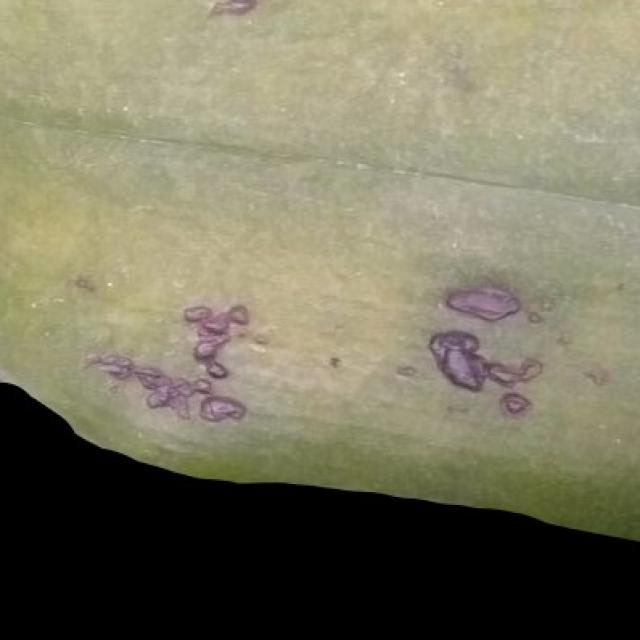mite: (426, 326, 489, 391), (196, 0, 270, 26), (63, 265, 103, 301), (317, 344, 352, 378), (206, 0, 259, 18), (498, 389, 529, 416), (521, 304, 547, 328), (323, 349, 346, 373), (71, 272, 95, 294), (526, 309, 542, 323), (326, 354, 341, 368)
sunburn: (80, 296, 257, 429)
